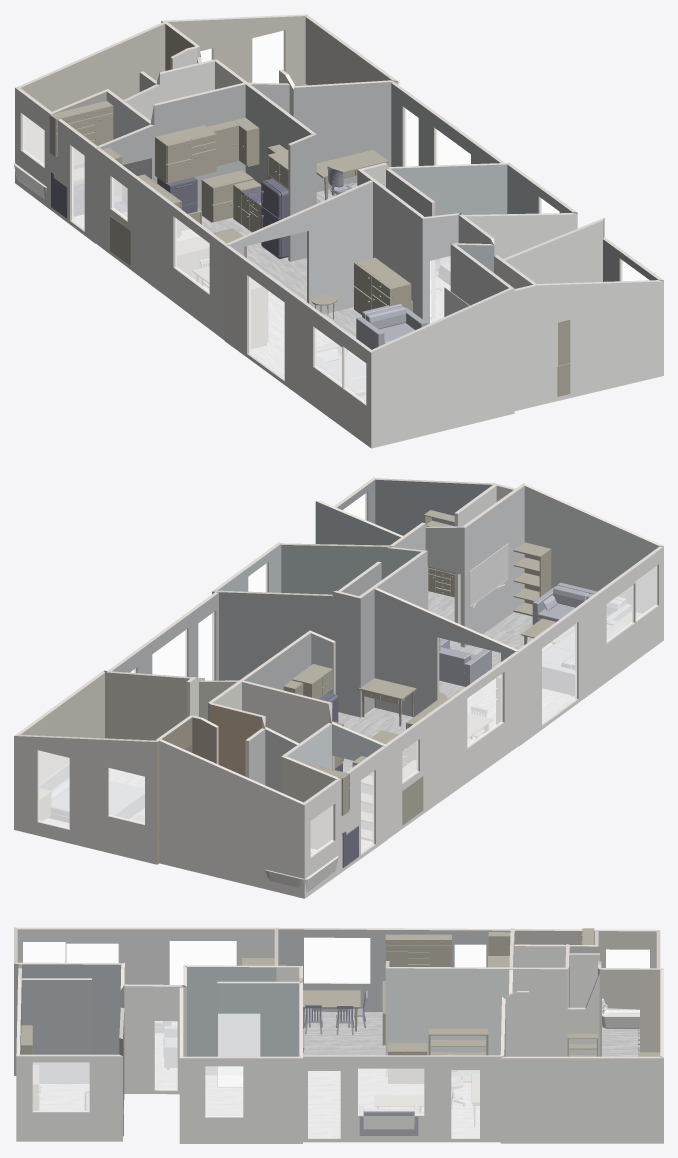
The model's file is house-interior.glb.
3 views of the same model, one above another, from view 1: azimuth 30°, elevation 25°; view 2: azimuth 150°, elevation 25°; view 3: azimuth 270°, elevation 25° (orthographic). The views are drawn at different scales.
Visible parts, largest first — view 1: wall_1, wall_47, wall_33, wall_23, wall_5, wall_57, wall_67, wall_85, wall_26, wall_139, wall_42, wall_113 (+58 smaller); view 2: wall_9, wall_18, wall_33, wall_23, wall_51, wall_59, wall_101, wall_89, wall_4, wall_69, wall_143, wall_73 (+60 smaller); view 3: wall_12, wall_0, wall_111, wall_6, wall_46, wall_95, wall_71, wall_45, wall_115, floor_Living_Room_2, wall_29, wall_91 (+65 smaller).
Part boxes in pixels (left/top/right/bottom): wall_1: left=371, top=288, right=514, bottom=448; wall_47: left=537, top=281, right=663, bottom=405; wall_33: left=95, top=148, right=224, bottom=340; wall_23: left=224, top=246, right=371, bottom=447; wall_5: left=229, top=182, right=372, bottom=314; wall_57: left=293, top=82, right=391, bottom=192; wall_67: left=21, top=24, right=165, bottom=163; wall_85: left=168, top=16, right=305, bottom=85; wall_26: left=390, top=164, right=505, bottom=272; wall_139: left=373, top=181, right=422, bottom=318; wall_42: left=505, top=220, right=602, bottom=283; wall_113: left=154, top=84, right=245, bottom=210; wall_9: left=159, top=741, right=304, bottom=898; wall_18: left=14, top=736, right=157, bottom=864; wall_33: left=387, top=652, right=519, bottom=839; wall_23: left=520, top=547, right=663, bottom=745; wall_51: left=524, top=486, right=658, bottom=613; wall_59: left=374, top=589, right=515, bottom=717; wall_101: left=219, top=592, right=332, bottom=680; wall_89: left=464, top=487, right=523, bottom=646; wall_4: left=106, top=672, right=189, bottom=750; wall_69: left=281, top=545, right=387, bottom=594; wall_143: left=375, top=479, right=492, bottom=535; wall_73: left=21, top=673, right=104, bottom=783; wall_12: left=500, top=1058, right=663, bottom=1143; wall_0: left=303, top=1056, right=500, bottom=1142; wall_111: left=385, top=968, right=509, bottom=1076; wall_6: left=179, top=1058, right=302, bottom=1143; wall_46: left=16, top=1056, right=122, bottom=1141; wall_95: left=17, top=929, right=274, bottom=984; wall_71: left=21, top=980, right=91, bottom=1083; wall_45: left=187, top=967, right=276, bottom=1074; wall_115: left=278, top=929, right=510, bottom=1011; floor_Living_Room_2: left=308, top=1076, right=479, bottom=1137; wall_29: left=124, top=986, right=179, bottom=1094; wall_91: left=217, top=983, right=299, bottom=1087.
Size of the model in its own units: 8.5 by 3.42 by 17.9.
174 materials, 10 textured.
